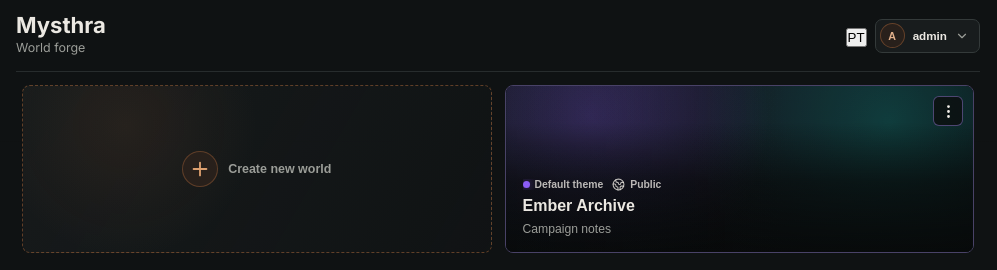
Test case: WorldDashboard › groups administration and logout in the user session menu
Expected: the menu item "Manage users" is not shown
Click the button with aria-label "Open admin menu" at (927, 36), box [875,18,980,52]
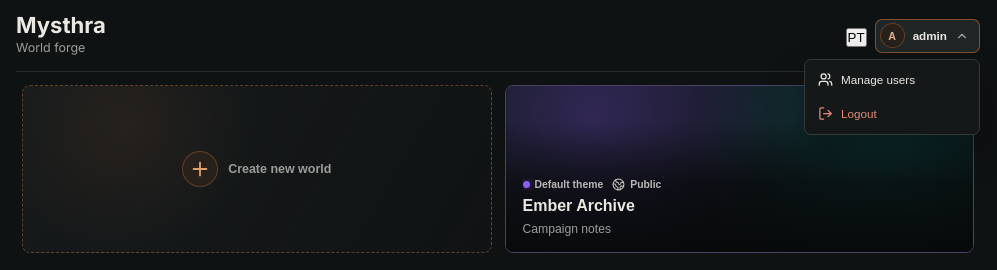
Click the menu item "Manage users" at (892, 80), box [809,64,975,96]
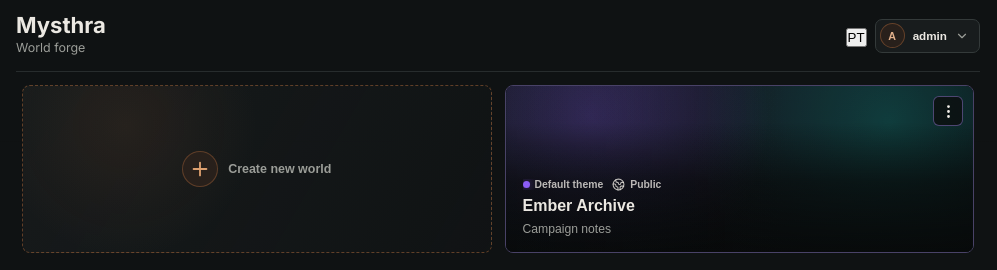
Expected: the menu item "Logout" is gone
